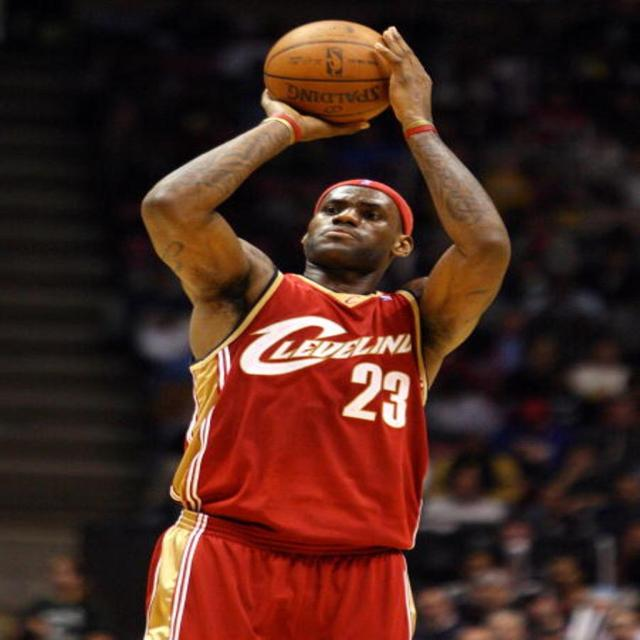Face: (312, 184, 405, 270)
